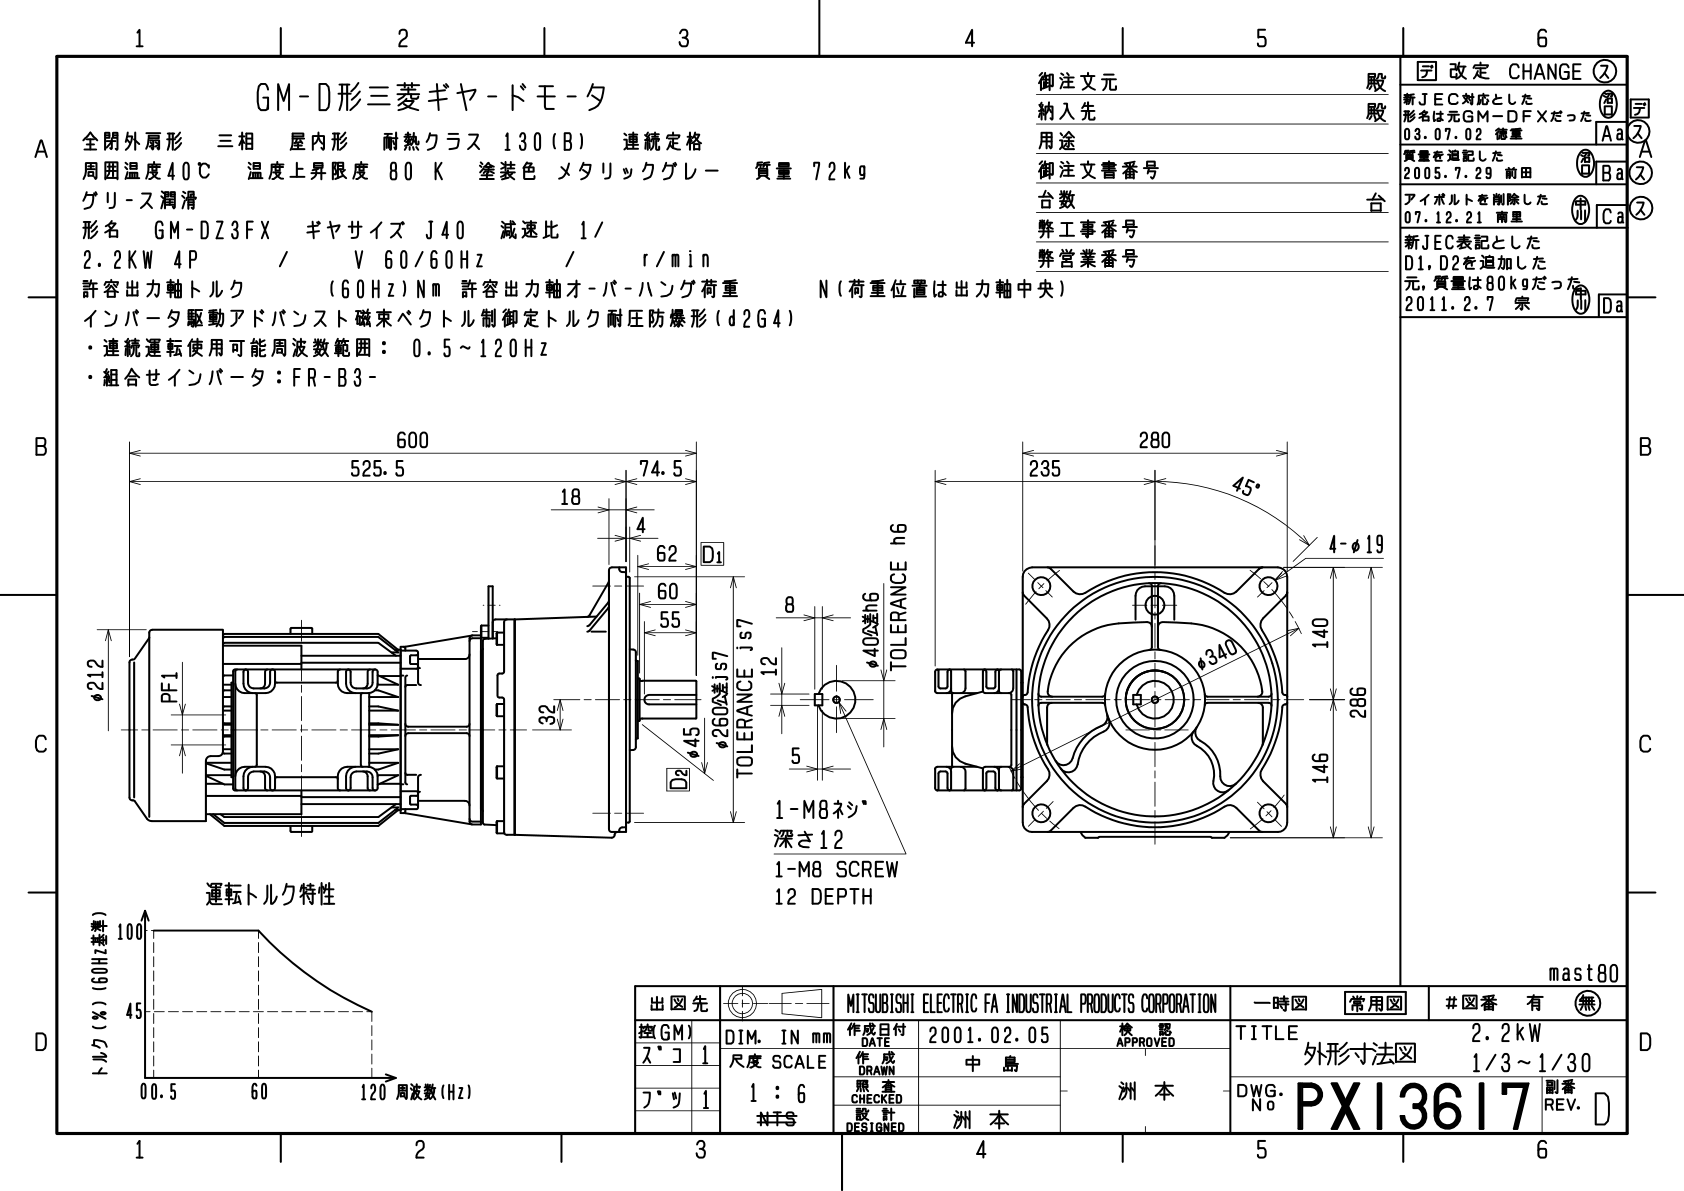GM_D_制御屋内_三相_フランジ: (3, 4, 1684, 1191)
